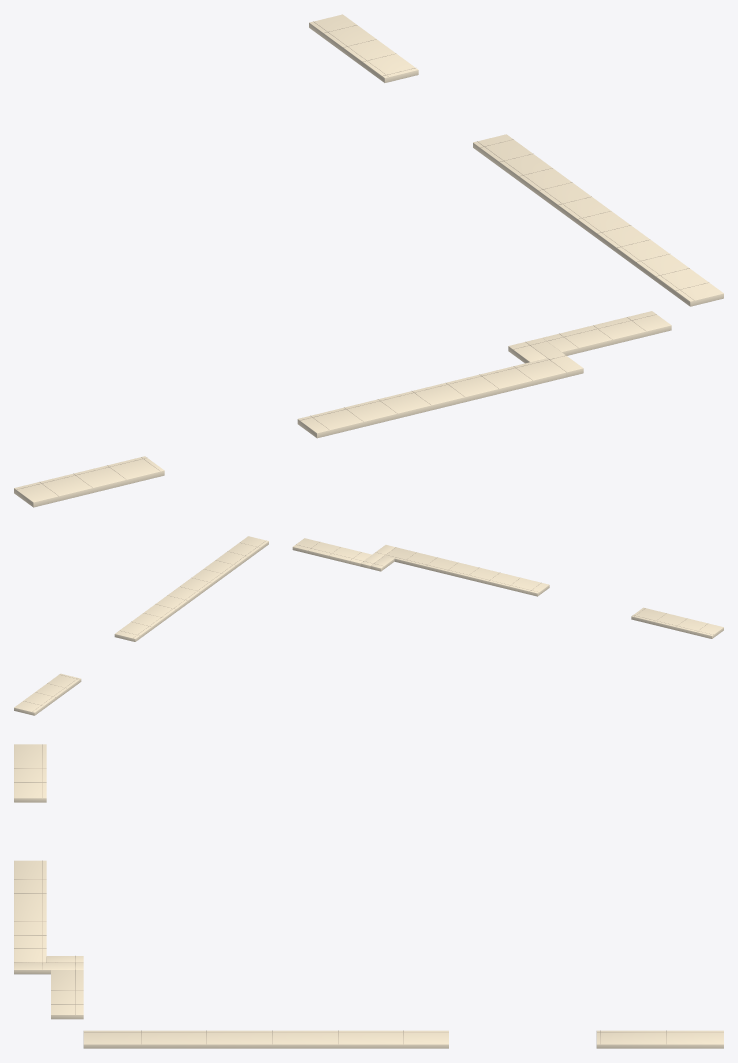
The model's file is castle_district_galleries_purified.glb.
3 views of the same model, one above another, from view 1: azimuth 30°, elevation 25°; view 2: azimuth 150°, elevation 25°; view 3: azimuth 270°, elevation 25° (orthographic). The views are drawn at different scales.
Parts seen in each view (by area): view 1: castle_district_galleries_purified_surface; view 2: castle_district_galleries_purified_surface; view 3: castle_district_galleries_purified_surface.
Boxes of the visible parts, x1=… form: castle_district_galleries_purified_surface: x1=14, y1=14, x2=723, y2=507; castle_district_galleries_purified_surface: x1=14, y1=536, x2=723, y2=715; castle_district_galleries_purified_surface: x1=14, y1=744, x2=723, y2=1048.
Bounding box in the file's own units: 86.5 × 0.6175 × 86.5.
